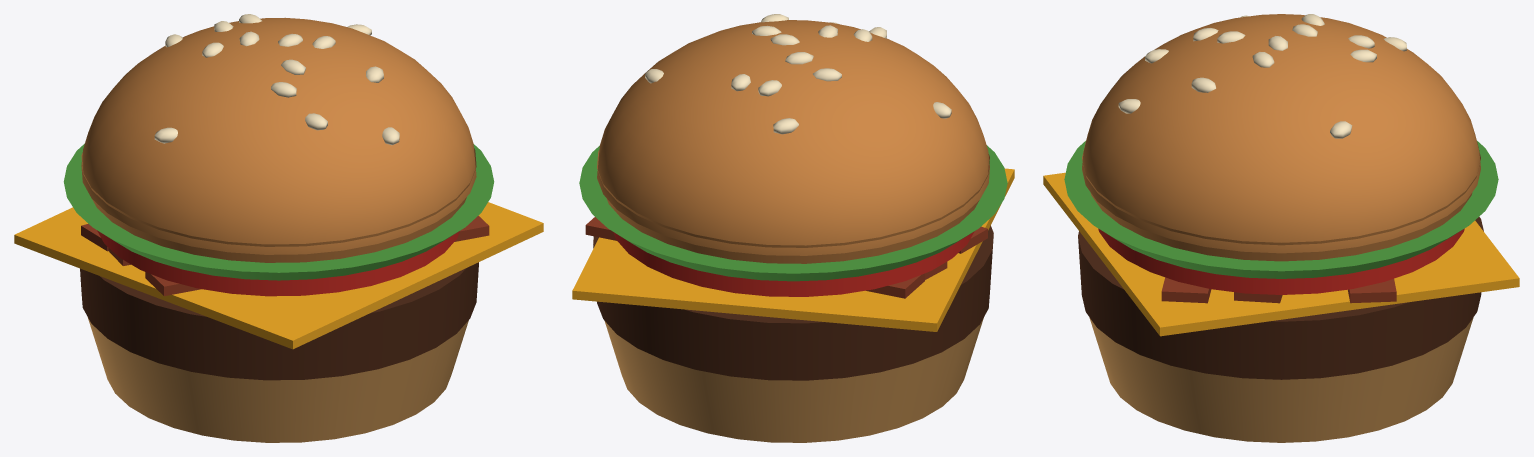
The model's file is burger-res.glb.
The picture shows the model from 3 angles, left to right: view 1: azimuth 30°, elevation 25°; view 2: azimuth 150°, elevation 25°; view 3: azimuth 270°, elevation 25°; orthographic projection.
Size of the model in its own units: 0.1517 by 0.118 by 0.1517.
